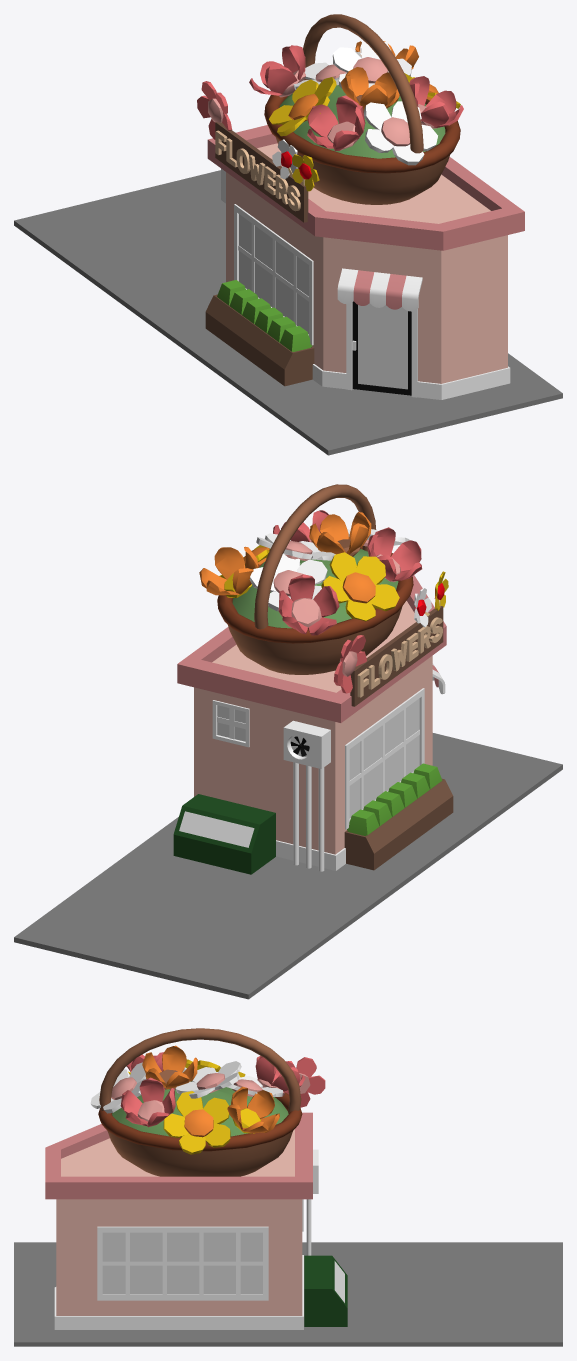
The model's file is FlowerShop.fbx.
3 renders of one model, top to bottom at view 1: azimuth 30°, elevation 25°; view 2: azimuth 150°, elevation 25°; view 3: azimuth 270°, elevation 25°, orthographic. The views are drawn at different scales.
Visible parts, largest first — view 1: Plane.043, Cube.043, Circle.341, Cube.676, Cube.044, Cube.841, Plane.270, Circle.224, Cube.691, Circle.235, Circle.343, Plane.234 (+6 smaller); view 2: Plane.043, Circle.341, Cube.043, Cube.676, Cube.090, Cube.044, Cube.841, Circle.224, roof Ac.008, Cube.691, Circle.343, Circle.235 (+7 smaller); view 3: Plane.043, Cube.043, Circle.341, Cube.676, Cube.842, Cube.691, Circle.224, Cube.694, Circle.343, Cube.090, Circle.235, Cube.096 (+1 smaller).
Part boxes in pixels (x1,y1,x2,y2): Plane.043: (14, 170, 562, 455); Cube.043: (226, 172, 507, 383); Circle.341: (197, 41, 463, 191); Cube.676: (207, 125, 524, 250); Cube.044: (205, 294, 314, 386); Cube.841: (239, 214, 308, 333); Plane.270: (358, 303, 407, 389); Circle.224: (275, 137, 450, 204); Cube.691: (234, 204, 417, 397); Circle.235: (264, 79, 460, 173); Circle.343: (303, 14, 423, 153); Plane.234: (337, 268, 422, 311); Plane.043: (14, 733, 562, 999); Circle.341: (199, 510, 448, 693); Cube.043: (194, 656, 432, 854); Cube.676: (177, 575, 446, 722); Cube.090: (173, 794, 275, 874); Cube.044: (344, 778, 453, 870); Cube.841: (349, 698, 419, 818); Circle.224: (228, 606, 402, 674); roof Ac.008: (283, 720, 330, 871); Cube.691: (212, 688, 424, 829); Circle.343: (254, 484, 376, 629); Circle.235: (217, 546, 413, 643); Plane.043: (14, 1242, 562, 1346); Cube.043: (56, 1199, 302, 1315); Circle.341: (90, 1045, 325, 1154); Cube.676: (45, 1112, 312, 1199); Cube.842: (102, 1232, 262, 1294); Cube.691: (97, 1199, 303, 1300); Circle.224: (107, 1131, 292, 1176); Cube.694: (54, 1255, 303, 1329); Circle.343: (99, 1028, 301, 1112); Cube.090: (304, 1255, 347, 1326); Circle.235: (98, 1092, 302, 1151); Cube.096: (112, 1081, 288, 1136).
Bounding box in the file's own units: 0.7138 × 0.9255 × 1.66.
